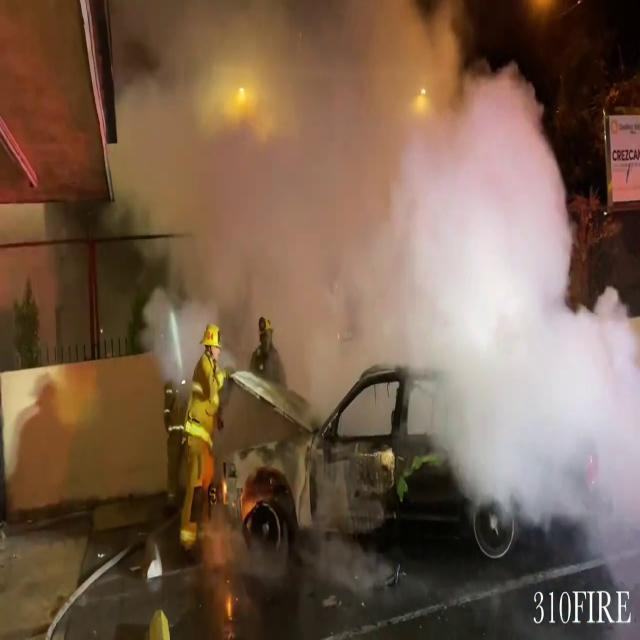Smoke: (137, 0, 638, 548)
